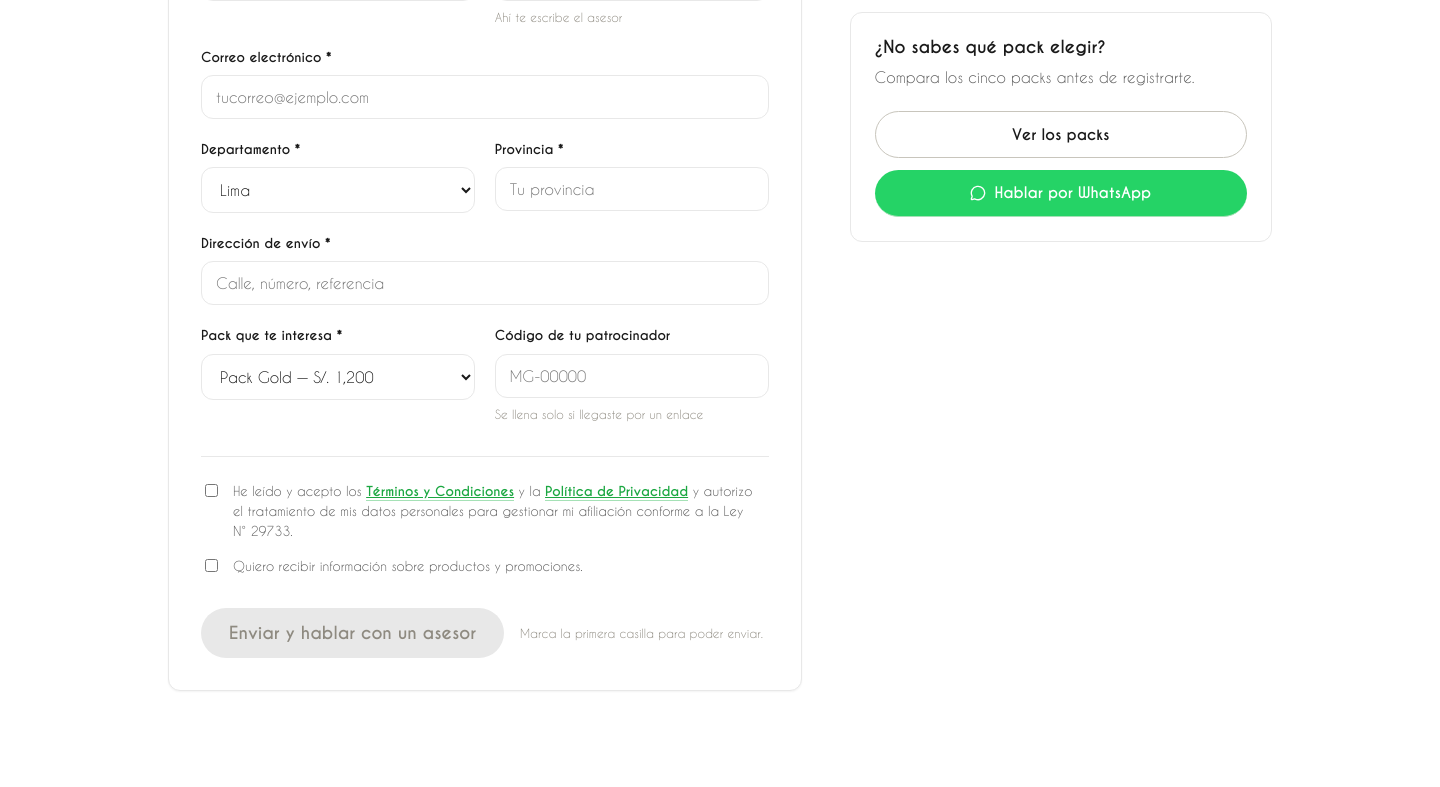
Scenario: Registro Page (P-04) › disables submit button until consent checkbox is checked
(page scrolled)
Expected: the button with test id "btn-submit-registro" is disabled, left=201, top=608, right=504, bottom=658
Expected: the text "Marca la primera casilla para poder enviar." is shown, left=520, top=623, right=763, bottom=643
What coordinates should you click on to do the following:
click the checkbox with test id "checkbox-consent"
I would click on:
 (212, 490)
Its box is left=205, top=484, right=218, bottom=497.
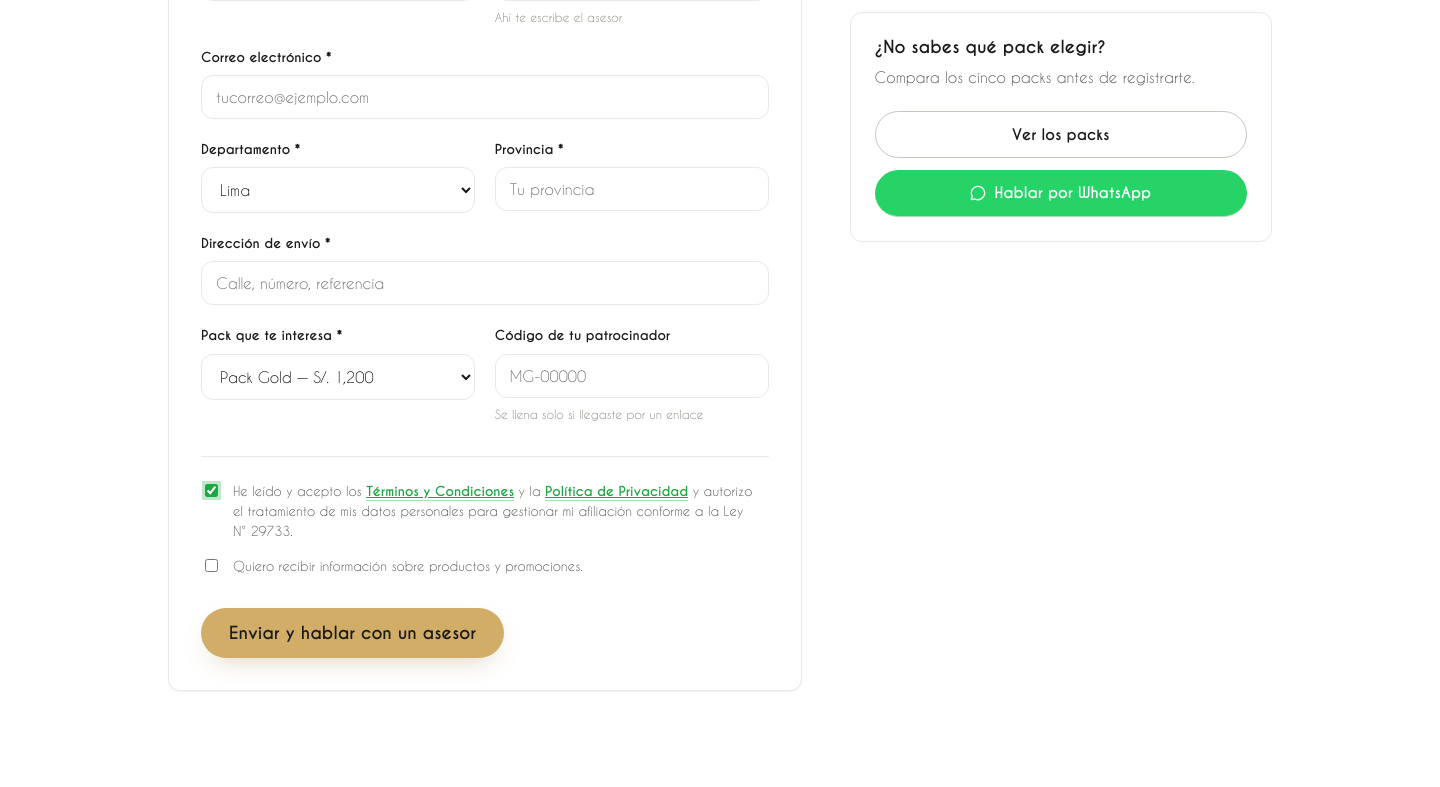
Expected: the button with test id "btn-submit-registro" is enabled, left=201, top=608, right=504, bottom=658
